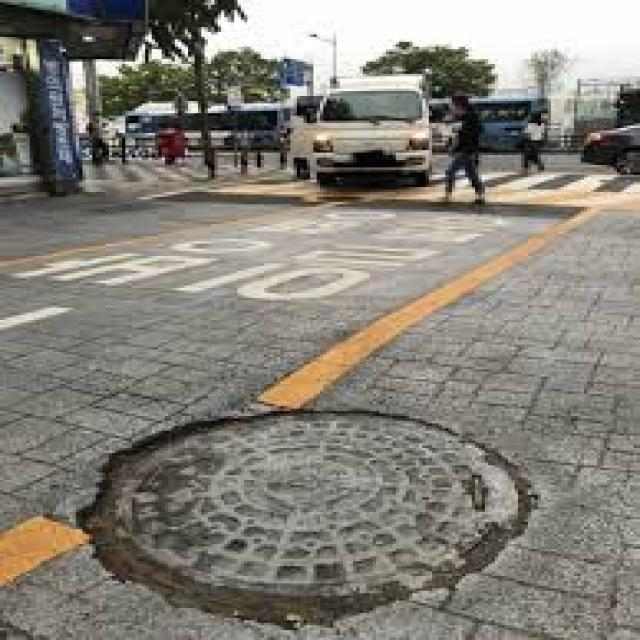manhole: (91, 411, 528, 626)
